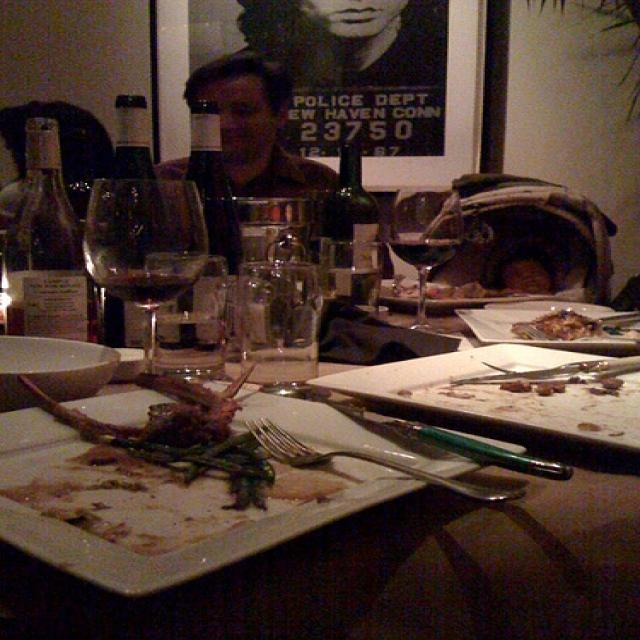Bottle: (174, 90, 237, 312), (313, 131, 382, 305), (19, 101, 73, 311), (108, 78, 155, 277)
Cup: (101, 172, 218, 375), (233, 263, 336, 412), (385, 196, 504, 303), (251, 187, 319, 310)
People: (164, 39, 314, 221)
